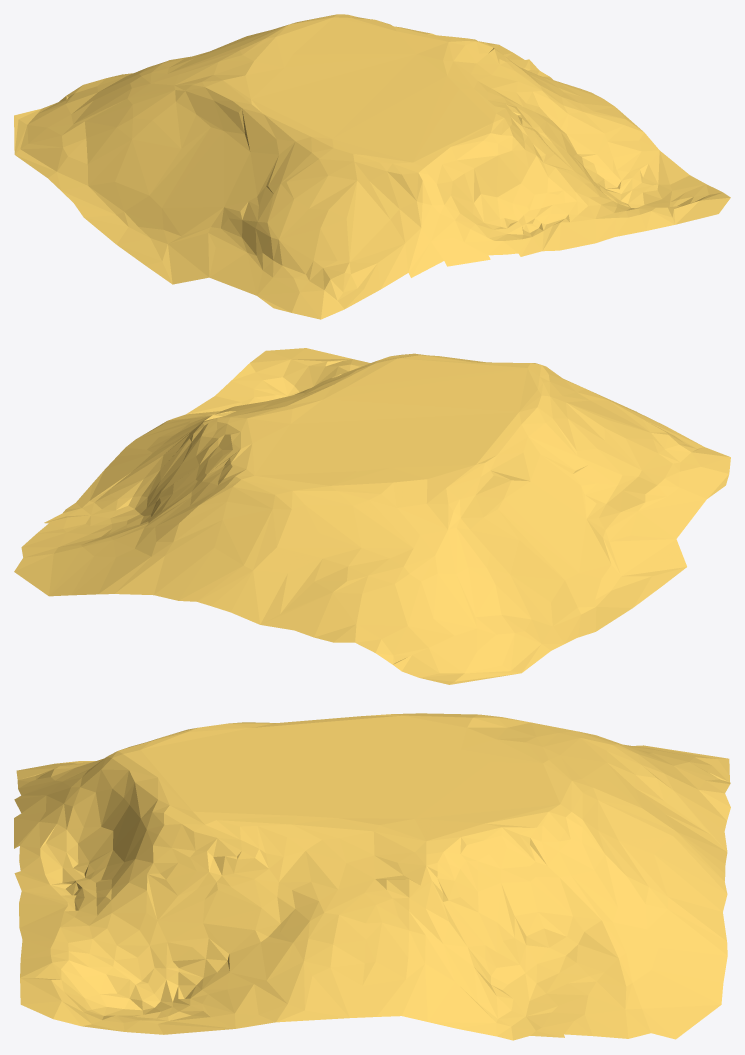
The model's file is Terrain 11.FBX.
The picture shows the model from 3 angles, top to bottom: view 1: azimuth 30°, elevation 25°; view 2: azimuth 150°, elevation 25°; view 3: azimuth 270°, elevation 25°; orthographic projection. The views are drawn at different scales.
Parts seen in each view (by area): view 1: plane; view 2: plane; view 3: plane.
Part boxes in pixels (x1,y1,x2,y2): plane: [14, 14, 730, 319]; plane: [14, 348, 730, 684]; plane: [14, 713, 730, 1040].
Size of the model in its own units: 88.17 by 18.84 by 90.76.
